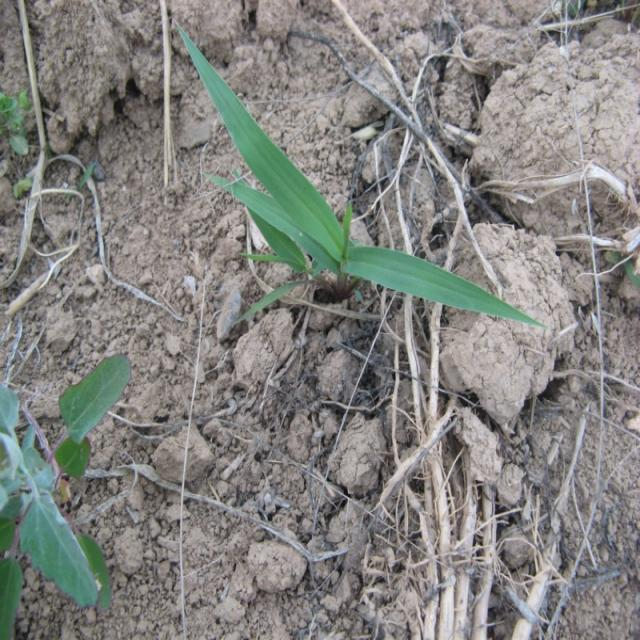bg: (174, 23, 545, 334)
